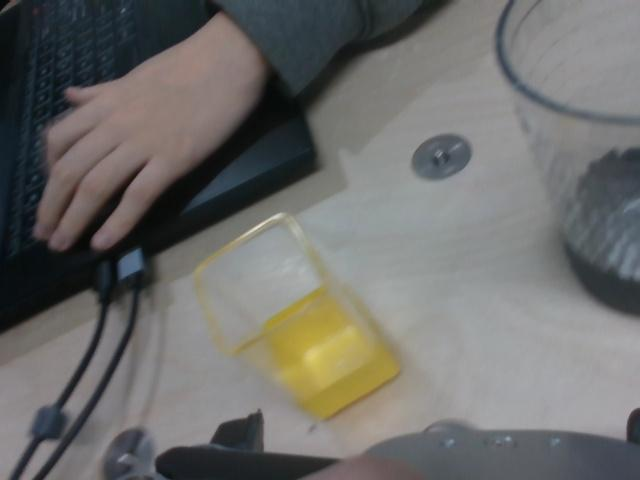yellow_cup: (258, 283, 402, 422)
